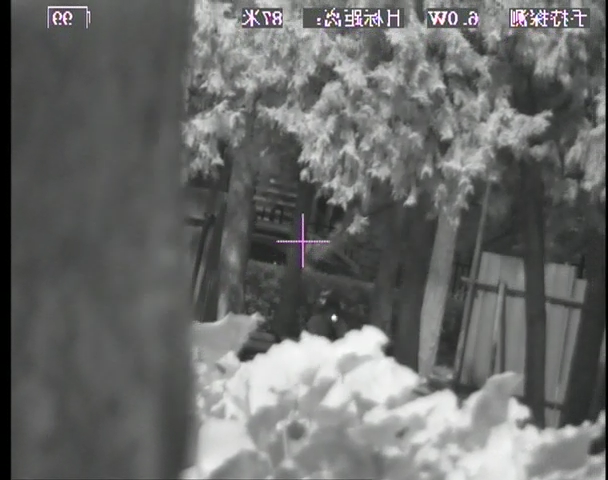my: (330, 312, 339, 323)
